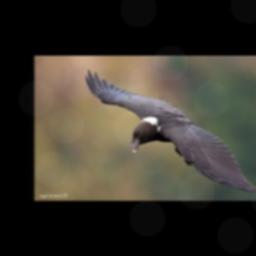Crow: (85, 68, 256, 196)
